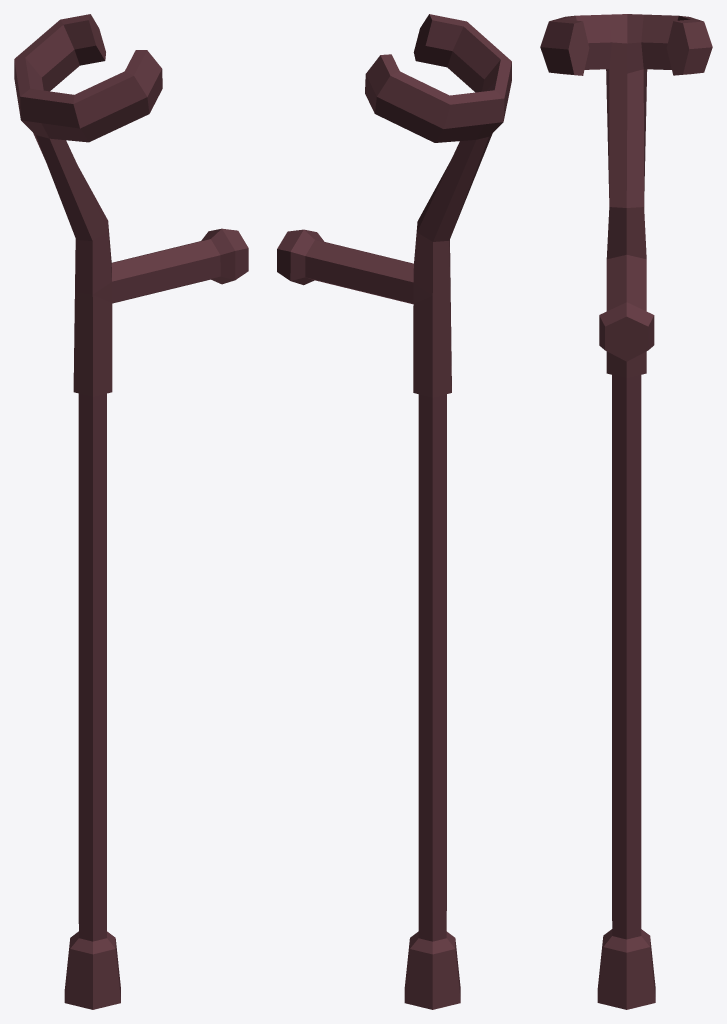
The model's file is crutch-elbow-b.fbx.
3 renders of one model, left to right at view 1: azimuth 30°, elevation 25°; view 2: azimuth 150°, elevation 25°; view 3: azimuth 270°, elevation 25°, orthographic. The views are drawn at different scales.
Parts seen in each view (by area): view 1: crutch-elbow-b; view 2: crutch-elbow-b; view 3: crutch-elbow-b.
Part boxes in pixels (left/top/right/bottom): crutch-elbow-b: left=14, top=14, right=248, bottom=1009; crutch-elbow-b: left=277, top=14, right=511, bottom=1009; crutch-elbow-b: left=540, top=14, right=712, bottom=1009.
Size of the model in its own units: 0.2899 by 1.22 by 0.1931.
